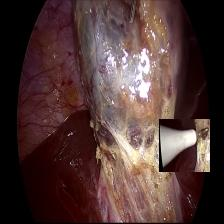Hook: (159, 119, 210, 172)
